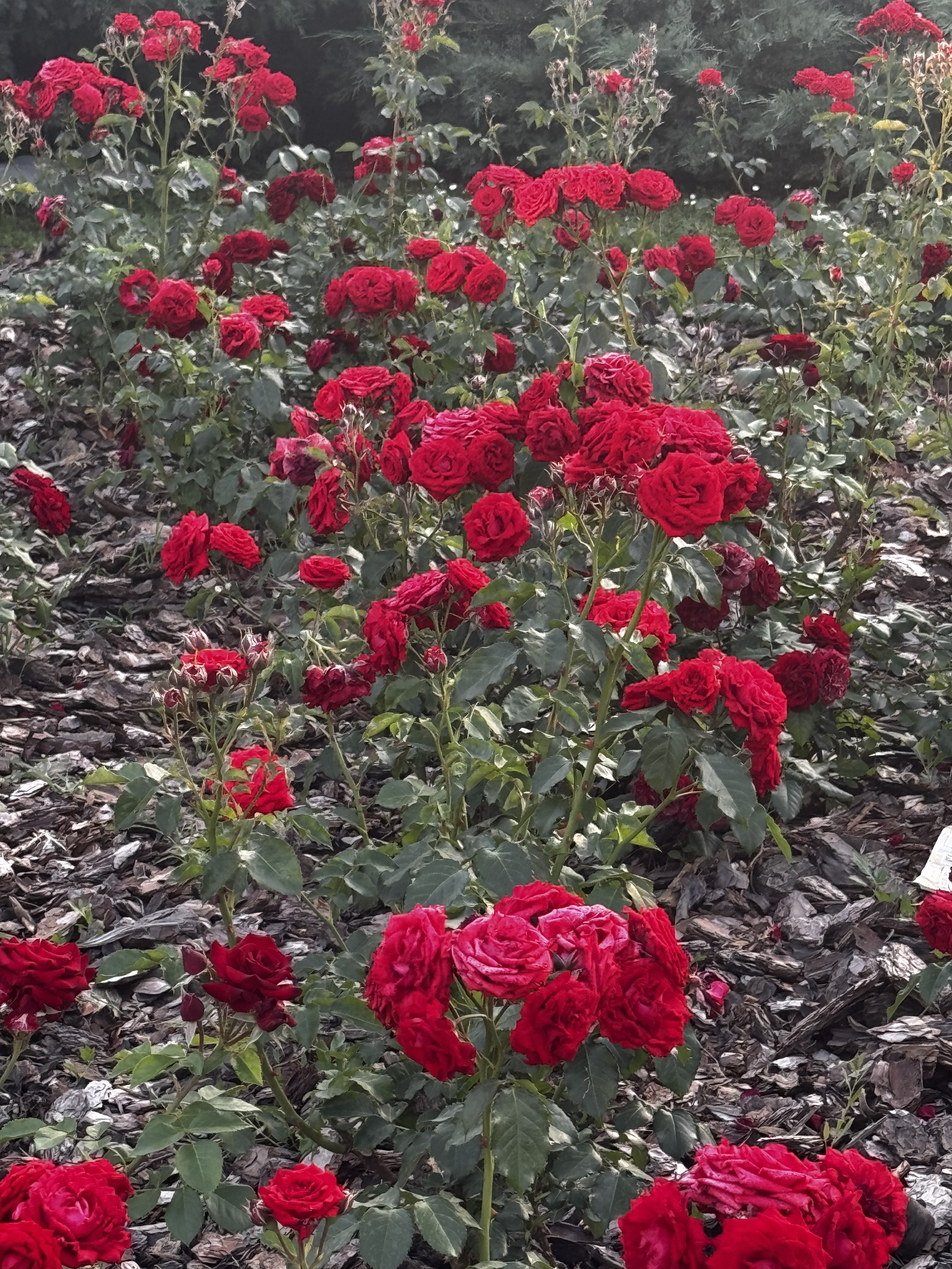rose: (804, 1118, 911, 1266), (351, 896, 460, 1022), (693, 1133, 836, 1221), (207, 913, 295, 1041), (393, 996, 494, 1103), (601, 945, 695, 1056), (509, 967, 603, 1065), (36, 1170, 126, 1266), (609, 1182, 708, 1269), (0, 937, 99, 1020), (214, 740, 304, 826), (259, 1153, 349, 1236), (637, 455, 724, 539), (719, 1208, 834, 1269), (460, 911, 539, 996), (628, 892, 701, 980), (537, 905, 629, 973), (719, 655, 787, 747), (567, 419, 654, 484), (596, 592, 675, 659), (466, 494, 537, 563), (5, 1139, 69, 1215), (203, 500, 263, 575), (654, 405, 727, 465), (156, 518, 220, 586), (296, 657, 380, 708), (643, 765, 702, 834), (421, 430, 475, 505), (590, 347, 659, 402), (518, 412, 581, 472), (179, 644, 252, 695), (355, 605, 413, 669), (391, 563, 449, 623), (293, 548, 364, 597), (499, 881, 578, 924), (744, 727, 789, 802), (723, 453, 773, 519), (267, 432, 327, 486), (434, 541, 485, 603), (146, 268, 186, 347), (909, 883, 951, 958), (670, 661, 726, 715), (304, 469, 349, 535), (620, 669, 673, 725), (810, 653, 865, 706), (710, 534, 757, 594), (763, 332, 819, 380), (473, 432, 524, 484), (34, 469, 77, 528), (210, 300, 259, 351), (343, 270, 396, 317), (336, 353, 387, 400), (802, 611, 855, 656), (683, 592, 732, 639), (0, 1196, 31, 1269), (481, 329, 524, 381), (580, 166, 635, 206), (745, 557, 787, 609), (780, 643, 815, 705), (113, 264, 155, 313), (220, 231, 277, 267), (673, 229, 718, 274), (515, 184, 561, 227), (549, 198, 587, 249), (473, 591, 517, 635), (327, 423, 369, 468), (739, 203, 781, 248), (522, 374, 566, 416), (281, 400, 329, 438), (265, 72, 309, 113), (304, 375, 349, 415), (640, 239, 686, 278), (466, 265, 508, 305), (384, 271, 426, 311), (34, 68, 110, 90), (358, 137, 394, 183), (15, 80, 62, 115), (426, 257, 467, 296), (374, 437, 408, 484), (636, 173, 680, 209), (374, 366, 430, 394), (193, 253, 230, 295), (595, 243, 632, 285), (436, 392, 475, 430), (917, 236, 949, 282), (252, 283, 287, 325), (318, 279, 356, 317), (258, 190, 298, 226), (482, 164, 533, 191), (402, 232, 441, 267), (74, 87, 105, 129), (302, 175, 337, 212), (453, 239, 490, 274), (232, 101, 269, 135), (302, 338, 338, 371), (474, 398, 511, 430), (115, 84, 146, 122), (398, 396, 432, 428), (232, 76, 269, 104), (483, 208, 510, 246), (714, 197, 749, 226), (471, 185, 505, 214), (889, 166, 923, 189), (546, 168, 578, 185)
